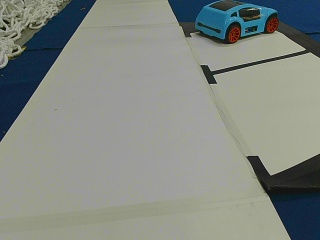car: (194, 2, 279, 42)
